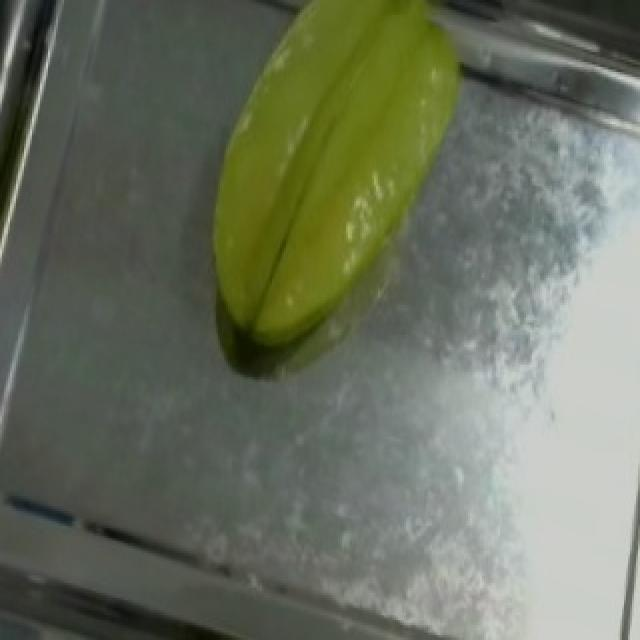fruit: (166, 0, 506, 350)
